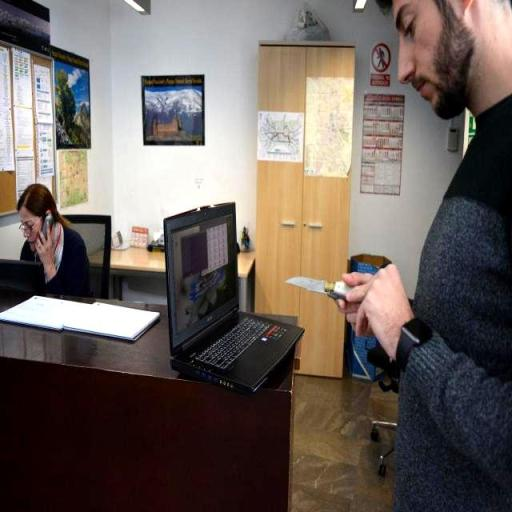knife: (279, 266, 358, 305)
